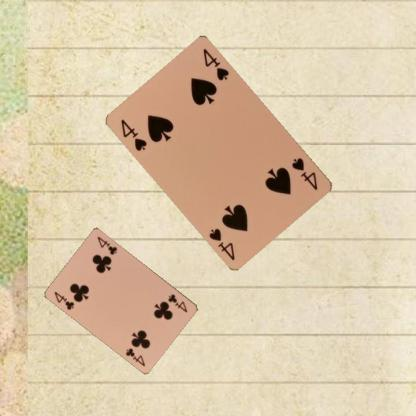4c: (165, 291, 189, 314), (52, 289, 76, 311)
4s: (289, 155, 319, 192), (119, 116, 149, 153)
